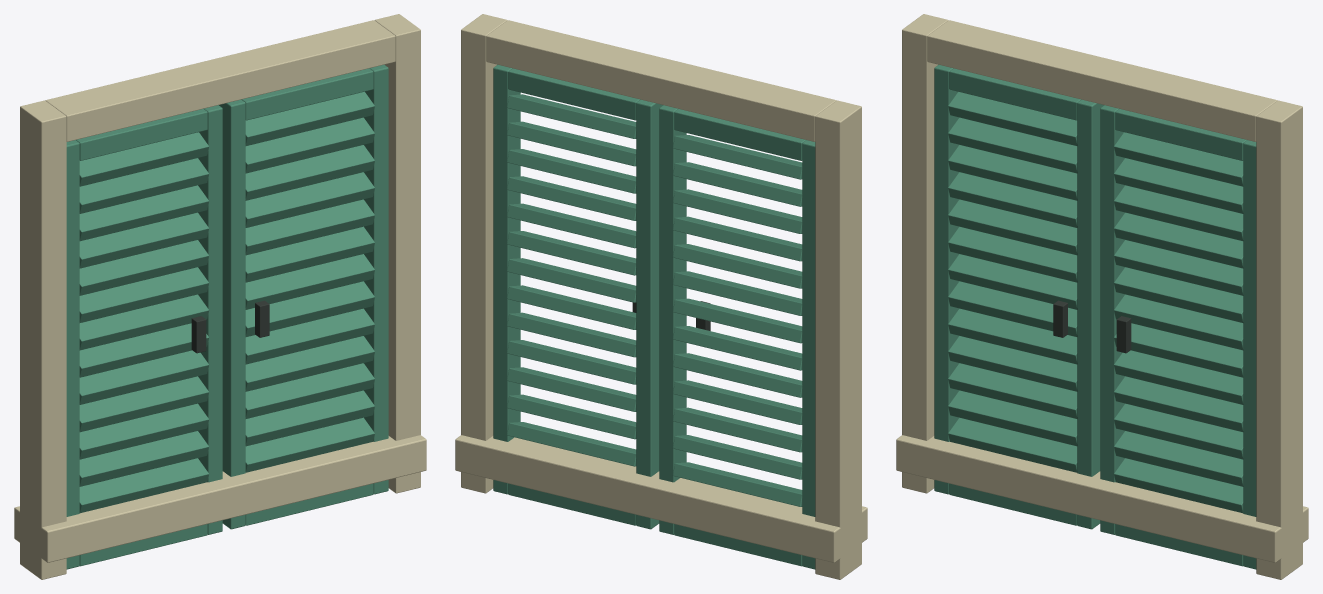
File: source-edit.glb
The picture shows the model from 3 angles, left to right: view 1: azimuth 30°, elevation 25°; view 2: azimuth 150°, elevation 25°; view 3: azimuth 330°, elevation 25°; orthographic projection.
Parts seen in each view (by area): view 1: FRAME_Jamb, FRAME_Sill, FRAME_Head, FRAME_Jamb.001, Right_Stile.001, Right_Stile, Left_Stile.001, Left_Stile, Left_Louver_12, Left_Louver_10, Left_Louver_3, Left_Louver_11 (+28 smaller); view 2: FRAME_Jamb, FRAME_Sill, FRAME_Head, FRAME_Jamb.001, Right_Stile.001, Right_Stile, Left_Stile.001, Left_Stile, Right_Rail.001, Left_Rail.001, Left_Louver_12, Left_Louver_3 (+26 smaller); view 3: FRAME_Jamb.001, FRAME_Sill, FRAME_Head, FRAME_Jamb, Left_Stile.001, Left_Stile, Right_Stile.001, Right_Stile, Right_Louver_12, Right_Louver_10, Right_Louver_3, Right_Louver_11 (+28 smaller).
Boxes of the visible parts, box(x1,y1,x2,y2) form: FRAME_Jamb: box(20, 100, 66, 579); FRAME_Sill: box(14, 435, 426, 562); FRAME_Head: box(45, 20, 395, 141); FRAME_Jamb.001: box(374, 14, 420, 493); Right_Stile.001: box(219, 99, 245, 529); Right_Stile: box(364, 64, 388, 494); Left_Stile.001: box(198, 105, 222, 534); Left_Stile: box(66, 140, 79, 569); Left_Louver_12: box(79, 158, 208, 213); Left_Louver_10: box(79, 212, 208, 268); Left_Louver_3: box(79, 403, 208, 459); Left_Louver_11: box(79, 185, 208, 241); FRAME_Jamb: box(815, 100, 861, 579); FRAME_Sill: box(455, 435, 867, 562); FRAME_Head: box(486, 20, 836, 141); FRAME_Jamb.001: box(461, 14, 507, 493); Right_Stile.001: box(636, 99, 662, 529); Right_Stile: box(493, 64, 520, 494); Left_Stile.001: box(659, 105, 686, 534); Left_Stile: box(802, 140, 815, 569); Right_Rail.001: box(508, 68, 640, 120); Left_Rail.001: box(674, 109, 805, 160); Left_Louver_12: box(673, 162, 802, 206); Left_Louver_3: box(673, 407, 802, 452); FRAME_Jamb.001: box(1256, 100, 1302, 579); FRAME_Sill: box(896, 435, 1308, 562); FRAME_Head: box(927, 20, 1277, 141); FRAME_Jamb: box(902, 14, 948, 493); Left_Stile.001: box(1077, 99, 1103, 529); Left_Stile: box(934, 64, 958, 494); Right_Stile.001: box(1100, 105, 1124, 534); Right_Stile: box(1243, 140, 1256, 569); Right_Louver_12: box(1114, 158, 1243, 213); Right_Louver_10: box(1114, 212, 1243, 268); Right_Louver_3: box(1114, 403, 1243, 459); Right_Louver_11: box(1114, 185, 1243, 241).
Size of the model in its own units: 1.5 by 1.73 by 0.23.
